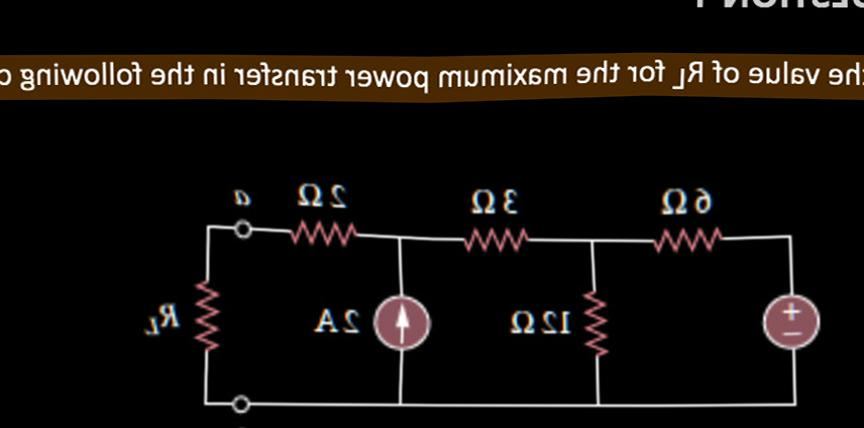Battery: (741, 280, 826, 362)
